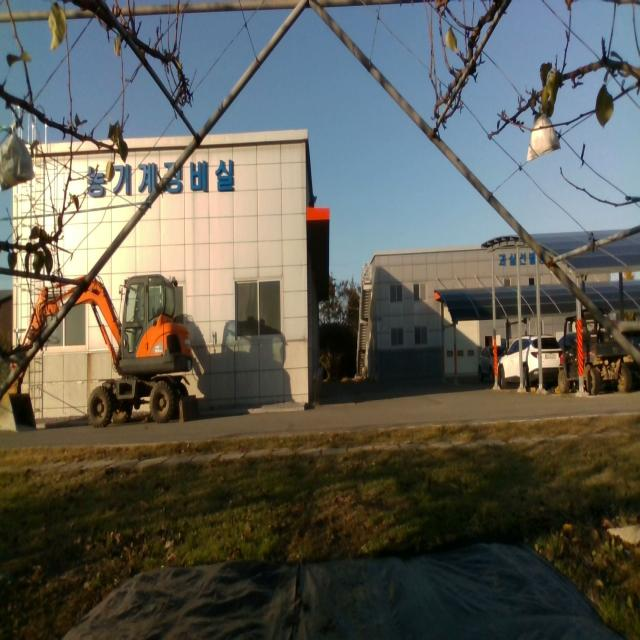pearbags: (0, 124, 35, 192), (525, 109, 559, 161)
